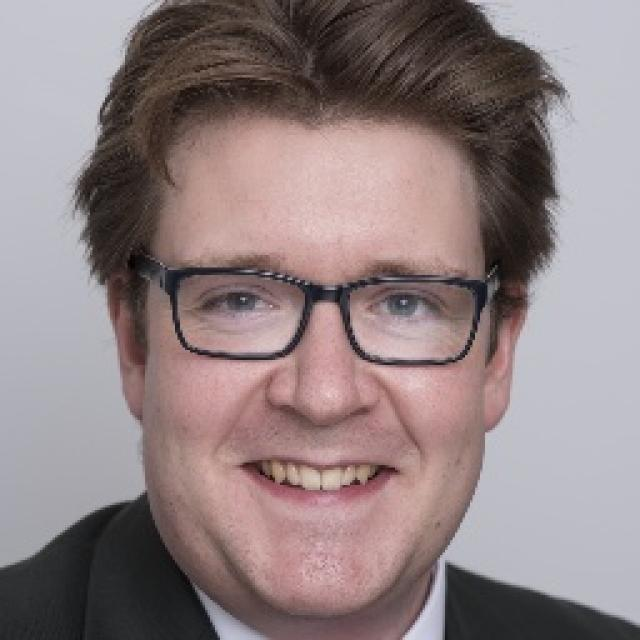earlobe: (483, 366, 512, 432), (121, 360, 145, 421)
eye: (367, 288, 447, 322), (198, 290, 282, 317)
nose: (268, 394, 380, 468)
wholeear: (483, 280, 531, 431), (104, 267, 146, 422)
